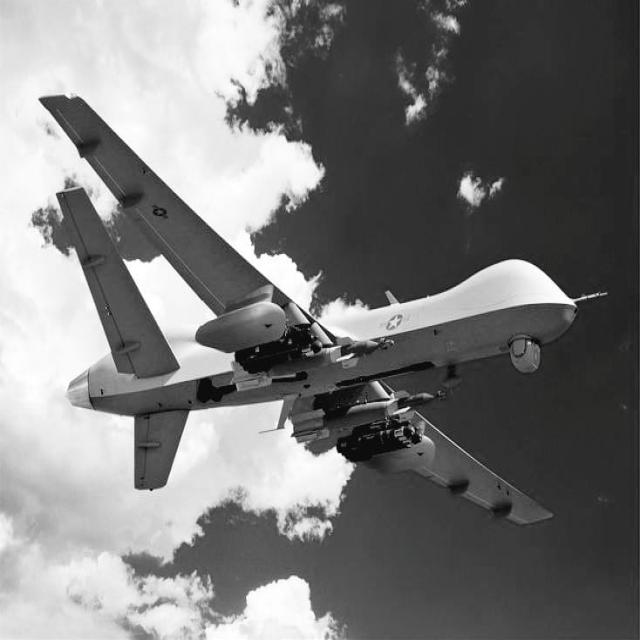iha: (0, 31, 578, 517)
